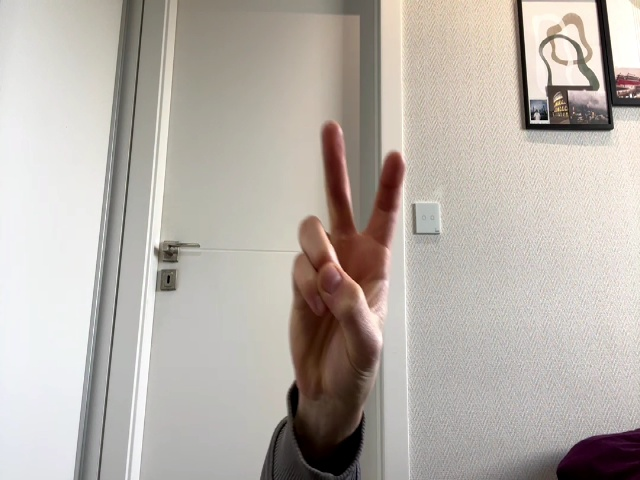H: (289, 121, 406, 393)
